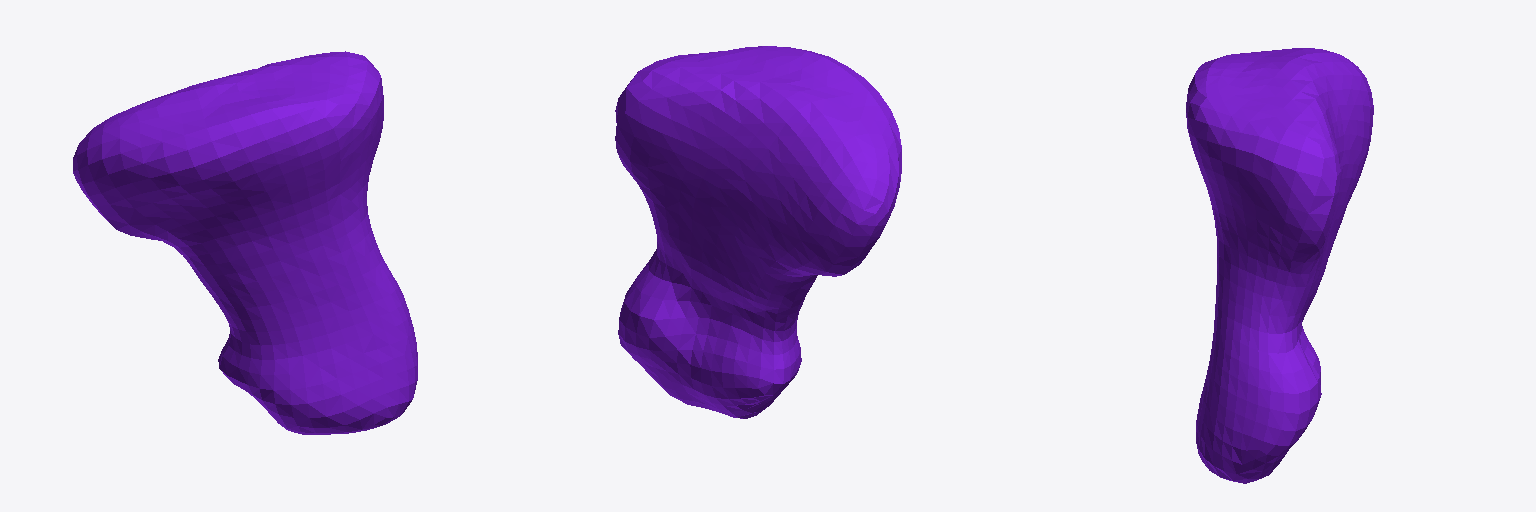
File: DistalPhalanx_1.obj
The picture shows the model from 3 angles: view 1: azimuth 30°, elevation 25°; view 2: azimuth 150°, elevation 25°; view 3: azimuth 270°, elevation 25°; orthographic projection.
Parts seen in each view (by area): view 1: Object_0DistalPhalanx_1; view 2: Object_0DistalPhalanx_1; view 3: Object_0DistalPhalanx_1.
Part boxes in pixels (left/top/right/bottom): Object_0DistalPhalanx_1: left=73, top=51, right=417, bottom=434; Object_0DistalPhalanx_1: left=615, top=46, right=901, bottom=418; Object_0DistalPhalanx_1: left=1186, top=48, right=1373, bottom=483.
Bounding box in the file's own units: 22.19 × 25.41 × 12.11.